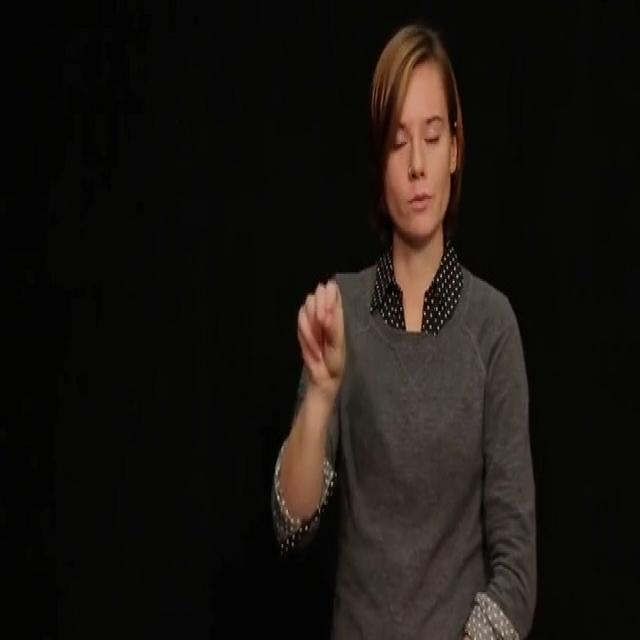no: (282, 262, 363, 423)
